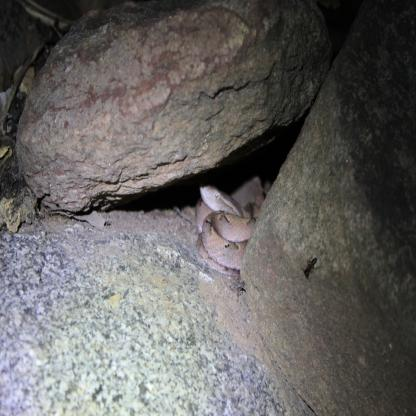Snake: (192, 177, 269, 279)
